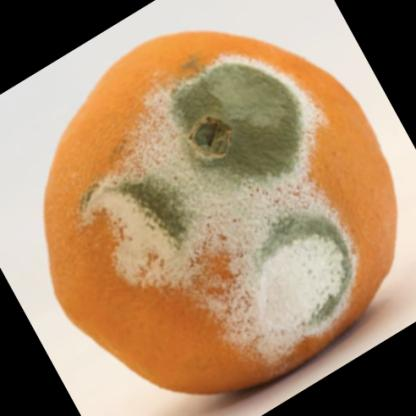rotten: (47, 32, 398, 395)
